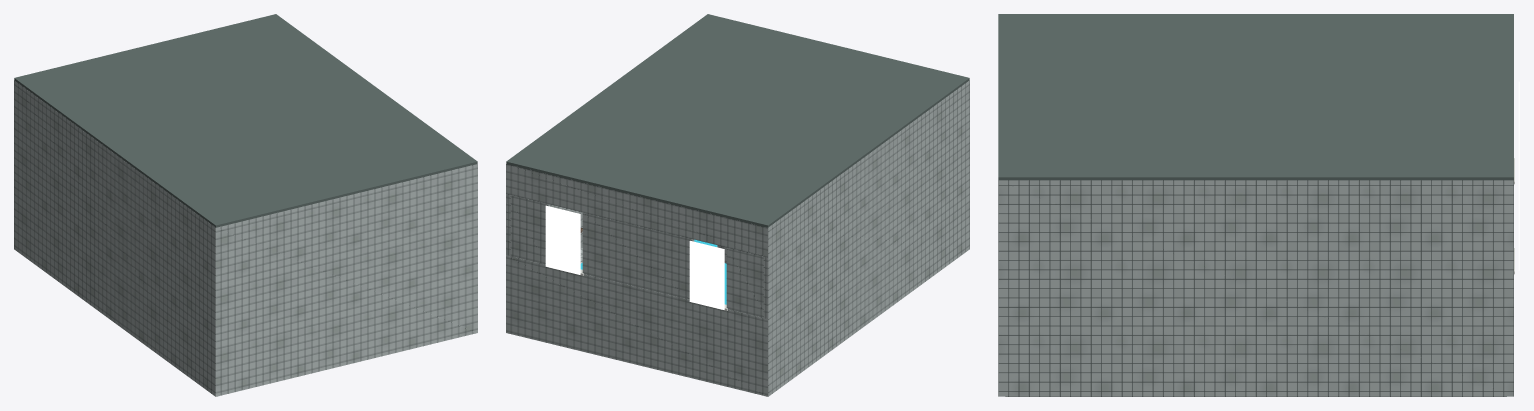
File: pool_room_v001-2ee22a73.glb
3 renders of one model, left to right at view 1: azimuth 30°, elevation 25°; view 2: azimuth 150°, elevation 25°; view 3: azimuth 270°, elevation 25°, orthographic. The views are drawn at different scales.
Visible parts, largest first — view 1: PoolCeiling, PoolWallFront, PoolWallLeft; view 2: PoolCeiling, PoolWallLeft, PoolWallBackBottom, PoolWallBackTop, PoolWallBackCenter, PoolWallBackLeft, PoolWallBackRight, PoolWindowSky_1, PoolWindowSky_2, PoolWallRight; view 3: PoolWallRight, PoolCeiling, PoolBasinFloor.
Boxes of the visible parts, x1=… form: PoolCeiling: x1=14, y1=14, x2=477, y2=227; PoolWallFront: x1=216, y1=164, x2=477, y2=396; PoolWallLeft: x1=14, y1=80, x2=215, y2=396; PoolCeiling: x1=506, y1=14, x2=969, y2=227; PoolWallLeft: x1=763, y1=80, x2=969, y2=396; PoolWallBackBottom: x1=506, y1=255, x2=767, y2=396; PoolWallBackTop: x1=506, y1=164, x2=767, y2=257; PoolWallBackCenter: x1=582, y1=212, x2=694, y2=299; PoolWallBackLeft: x1=726, y1=247, x2=763, y2=317; PoolWallBackRight: x1=510, y1=195, x2=550, y2=264; PoolWindowSky_1: x1=689, y1=240, x2=724, y2=309; PoolWindowSky_2: x1=545, y1=205, x2=580, y2=274; PoolWallRight: x1=506, y1=193, x2=582, y2=256; PoolWallRight: x1=998, y1=180, x2=1513, y2=396; PoolCeiling: x1=998, y1=14, x2=1513, y2=180; PoolBasinFloor: x1=1005, y1=396, x2=1506, y2=396.
Size of the model in its own units: 12 by 7.62 by 16.18.
11 materials, 2 textured.
